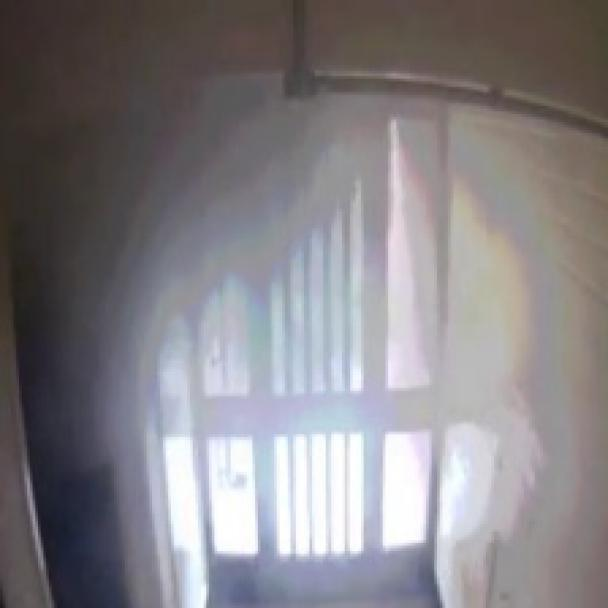smoke: (2, 0, 606, 606), (87, 57, 596, 574)
